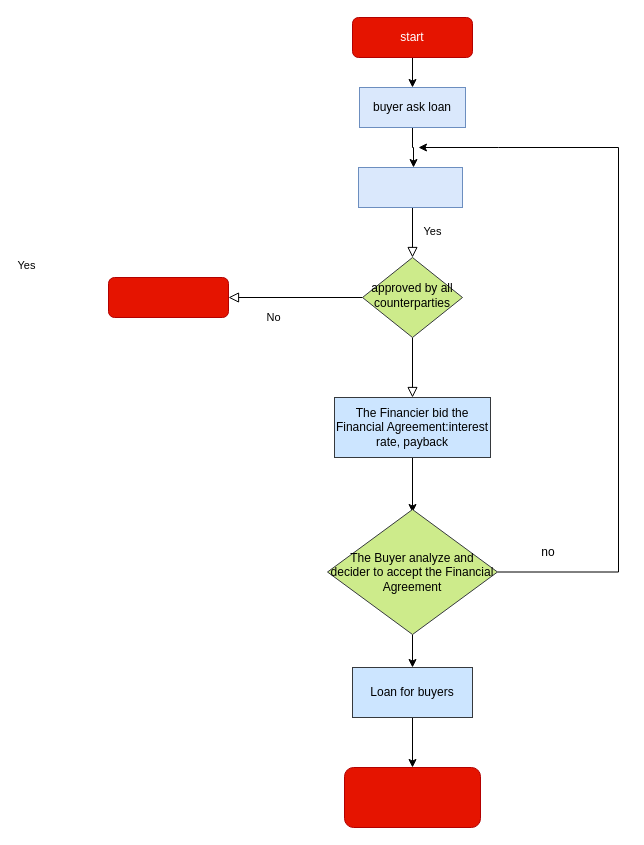
This 644x845 diagram has some shape labels left out. Each missing label, with the box of its shape:
Financier: (358, 166, 462, 208)
pay for Seller and Seller ship the good: (344, 766, 480, 828)
reject: (108, 276, 228, 318)
